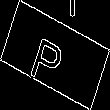P_NE: (34, 25, 76, 85)
